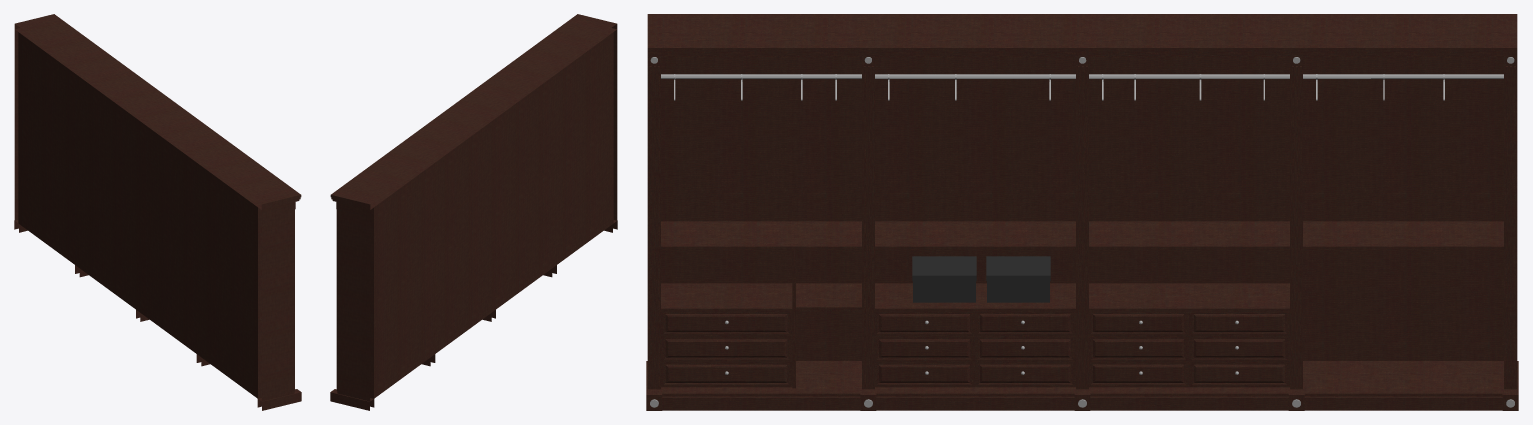
File: YMJ_guizi.fbx
3 renders of one model, left to right at view 1: azimuth 30°, elevation 25°; view 2: azimuth 150°, elevation 25°; view 3: azimuth 270°, elevation 25°, orthographic. The views are drawn at different scales.
Visible parts, largest first — view 1: YMJ_guizi; view 2: YMJ_guizi; view 3: YMJ_guizi.
Boxes of the visible parts, bbox=[...] form: YMJ_guizi: bbox=[14, 14, 301, 410]; YMJ_guizi: bbox=[330, 14, 617, 410]; YMJ_guizi: bbox=[646, 14, 1518, 410].
Bounding box in the file's own units: 51.56 × 252 × 548.
Materials: 3 (1 with a texture image).
